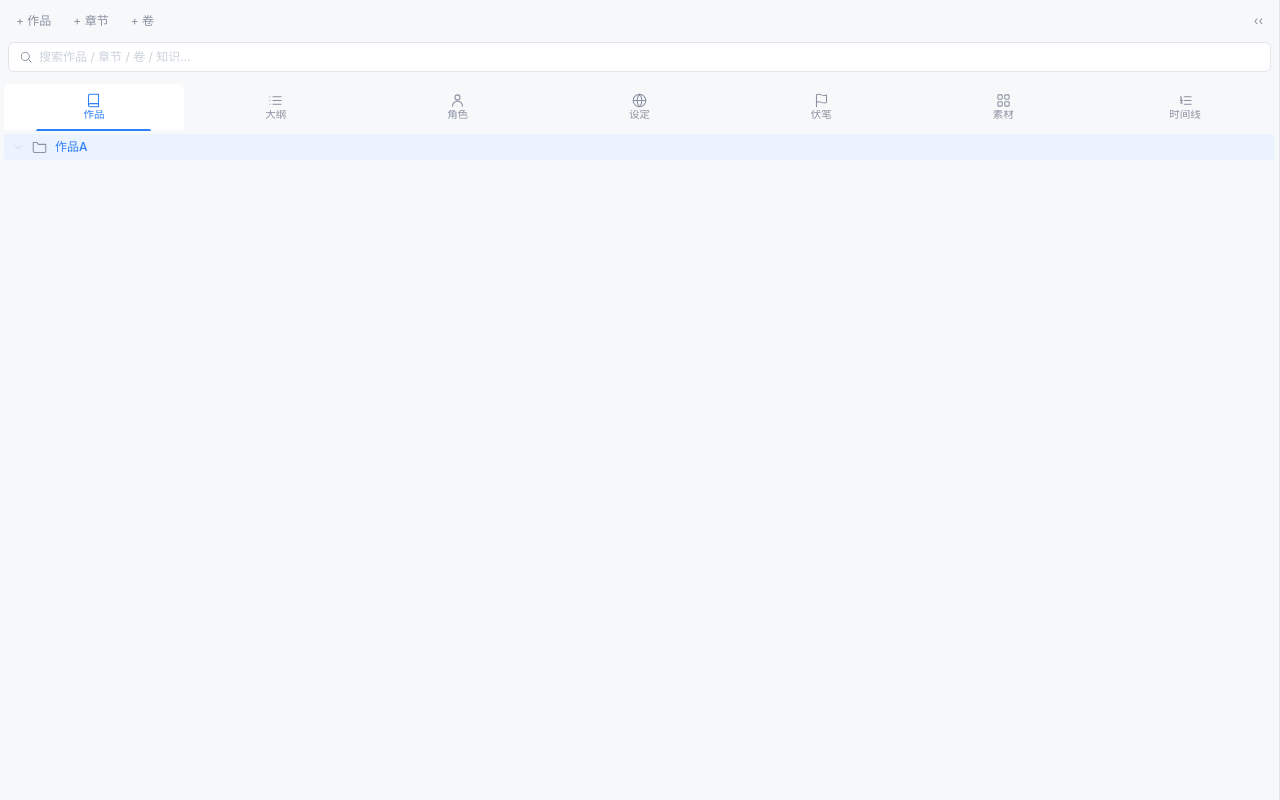
it: 侧栏操作重构：作品节点右键菜单 › 菜单「重命名作品」→ 弹出重命名弹窗
Right-click the text "作品A".
right_click(71, 147)  # box [55,138,88,156]
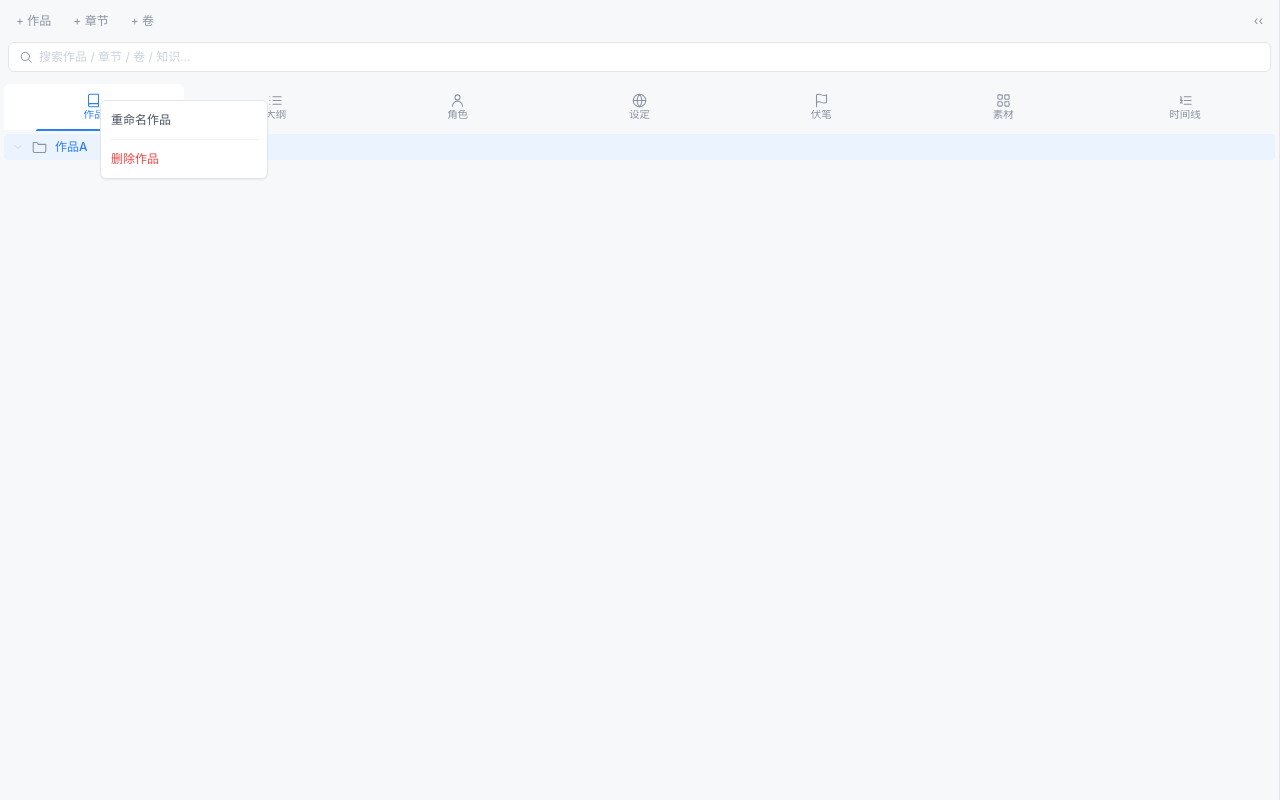
Click the menu item "重命名作品".
click(184, 120)  # box [101,105,267,135]
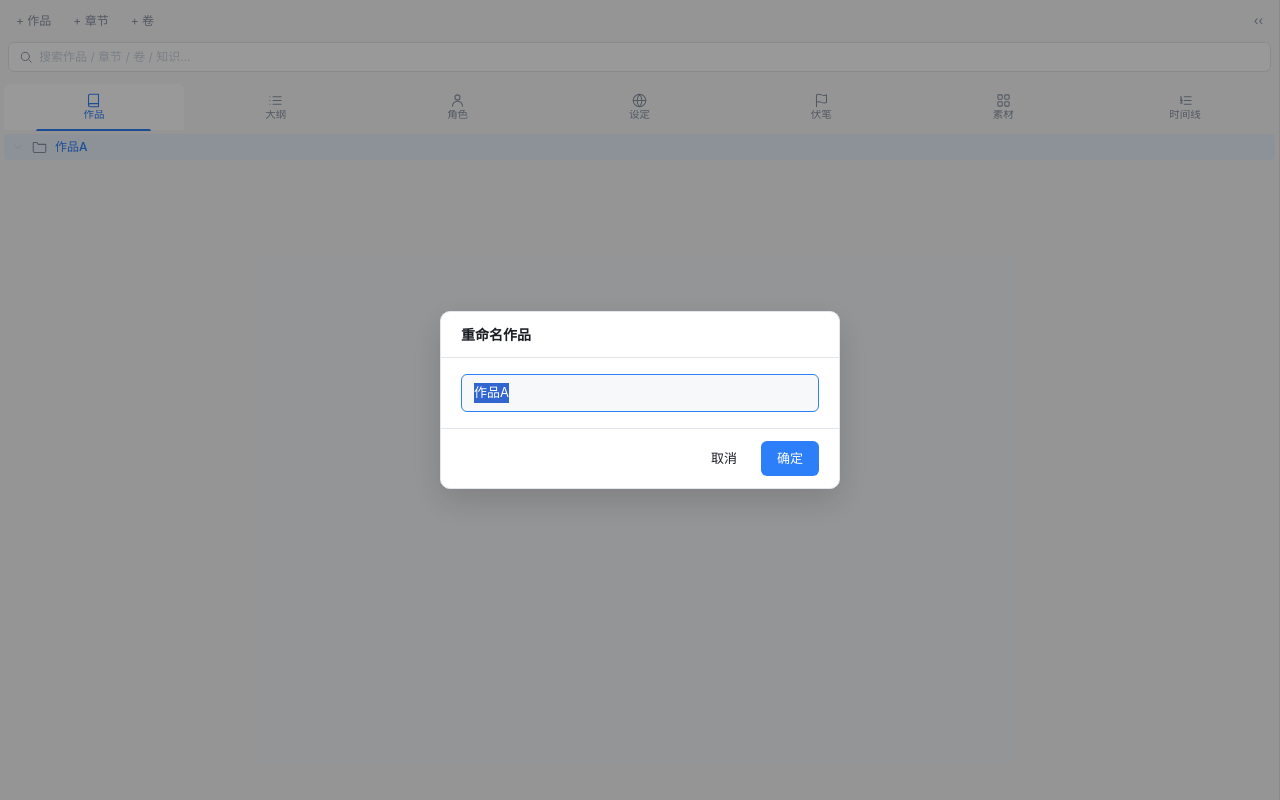
Result: the text "重命名作品" is shown at [441,312,839,358]
Result: the field showing "作品A" is shown at [461,374,819,412]
